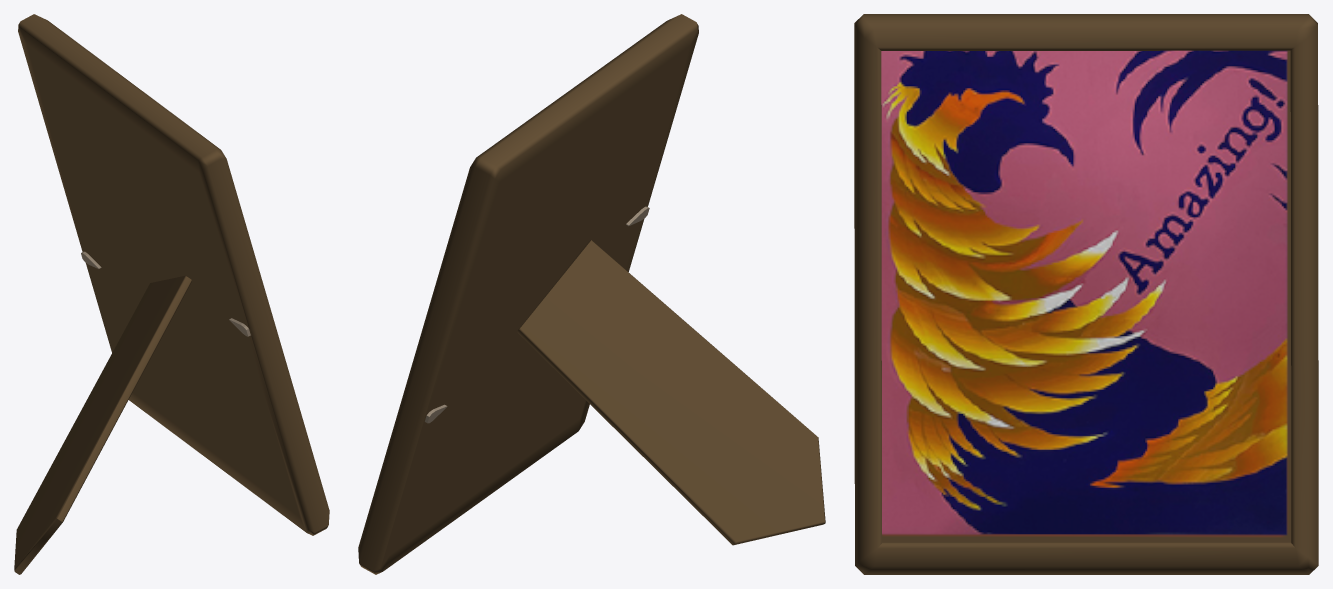
File: photoframe_2.fbx
3 views of the same model, side by side, from view 1: azimuth 30°, elevation 25°; view 2: azimuth 150°, elevation 25°; view 3: azimuth 270°, elevation 25° (orthographic). The views are drawn at different scales.
Visible parts, largest first — view 1: pCube3; view 2: pCube3; view 3: pCube3.
Boxes of the visible parts, <box> form: pCube3: <box>14,14,329,574</box>; pCube3: <box>358,14,825,574</box>; pCube3: <box>854,14,1318,574</box>.
Size of the model in its own units: 12.82 by 17.65 by 14.91.
1 material, 1 textured.
